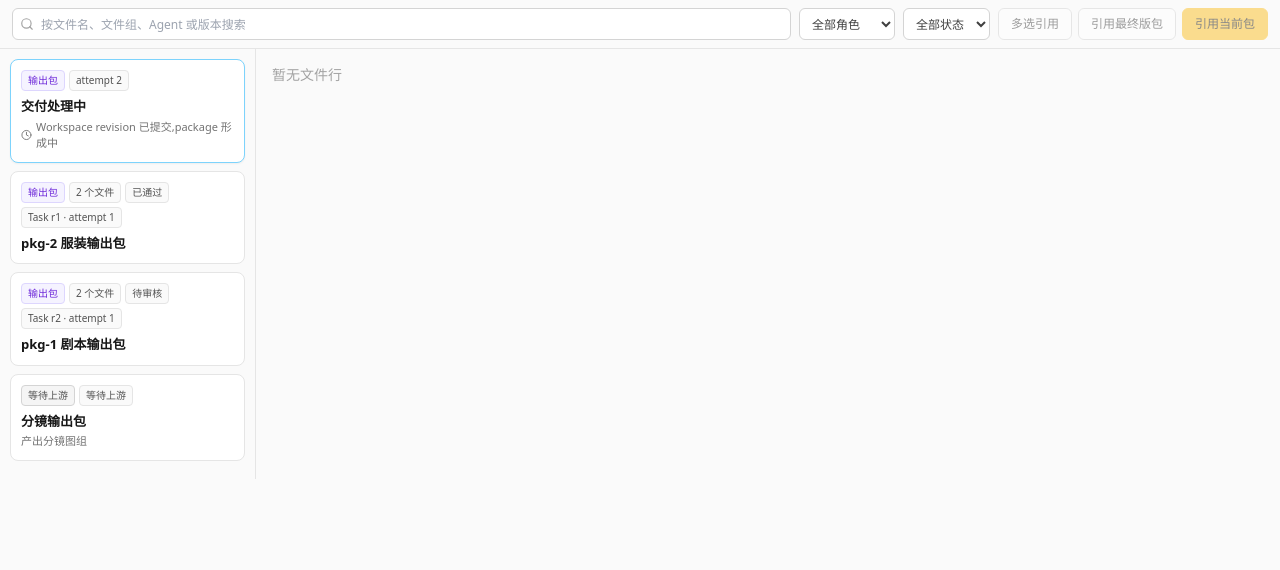
Test: ProjectFilesBoard 左栏卡片与右栏表格 › 产物库投影缺失时仍使用包成员的 isFinalVersion 事实
Click the button "输出包 2 个文件 已通过 Task r1 · attempt 1 pkg-2 服装输出包".
click(128, 217)  # box [10,170,245,264]
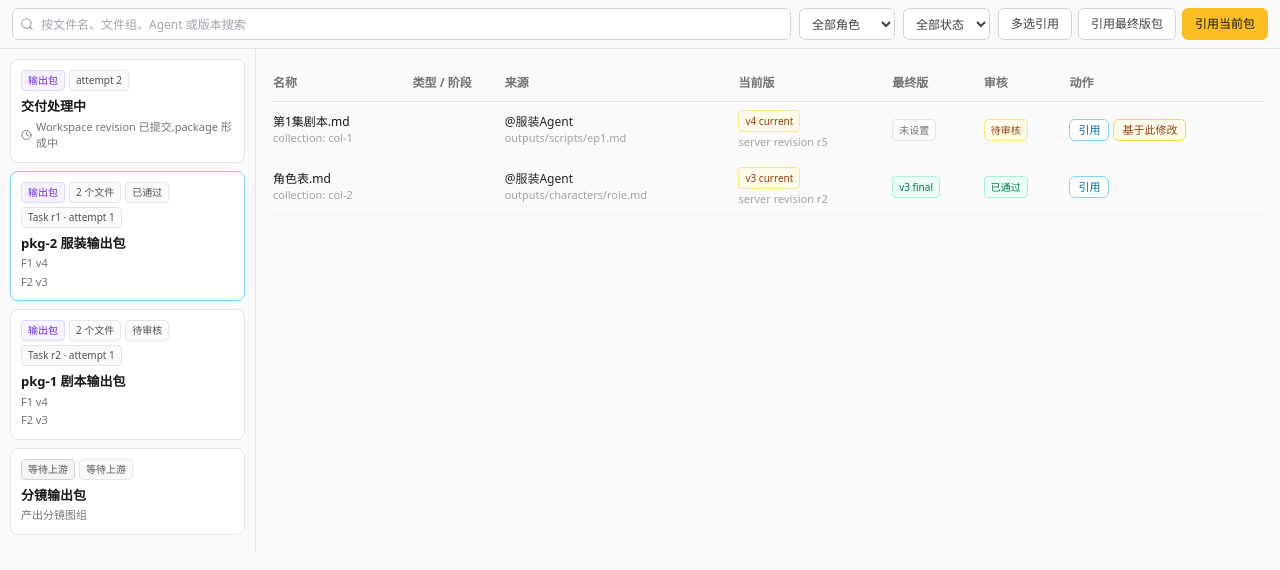
Result: the row that starts with "角色表.md" shows "v3 final" at [899,180,933,194]
Result: the row that starts with "第1集剧本.md" shows "未设置" at [899,122,929,136]
